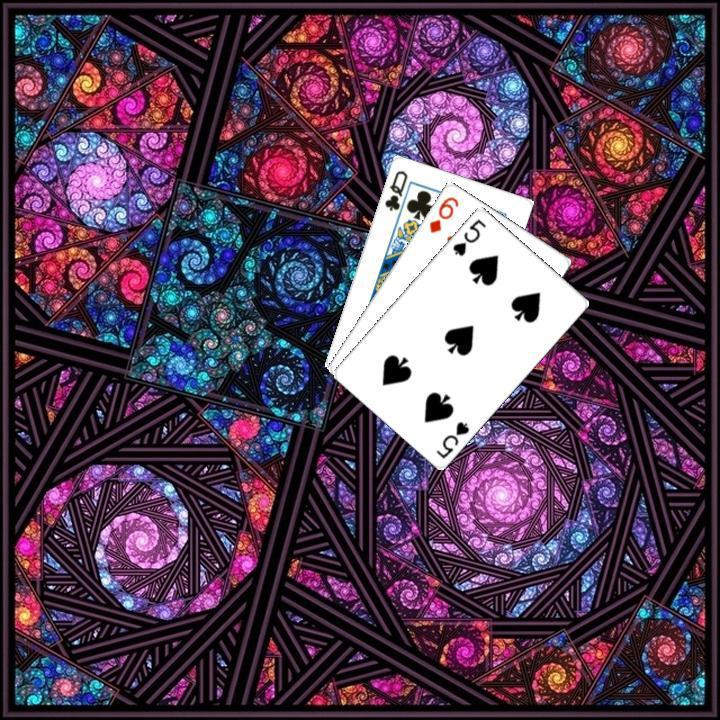5: (448, 214, 488, 258), (432, 417, 472, 460)
6: (425, 192, 461, 235)
Q: (380, 166, 409, 213)
